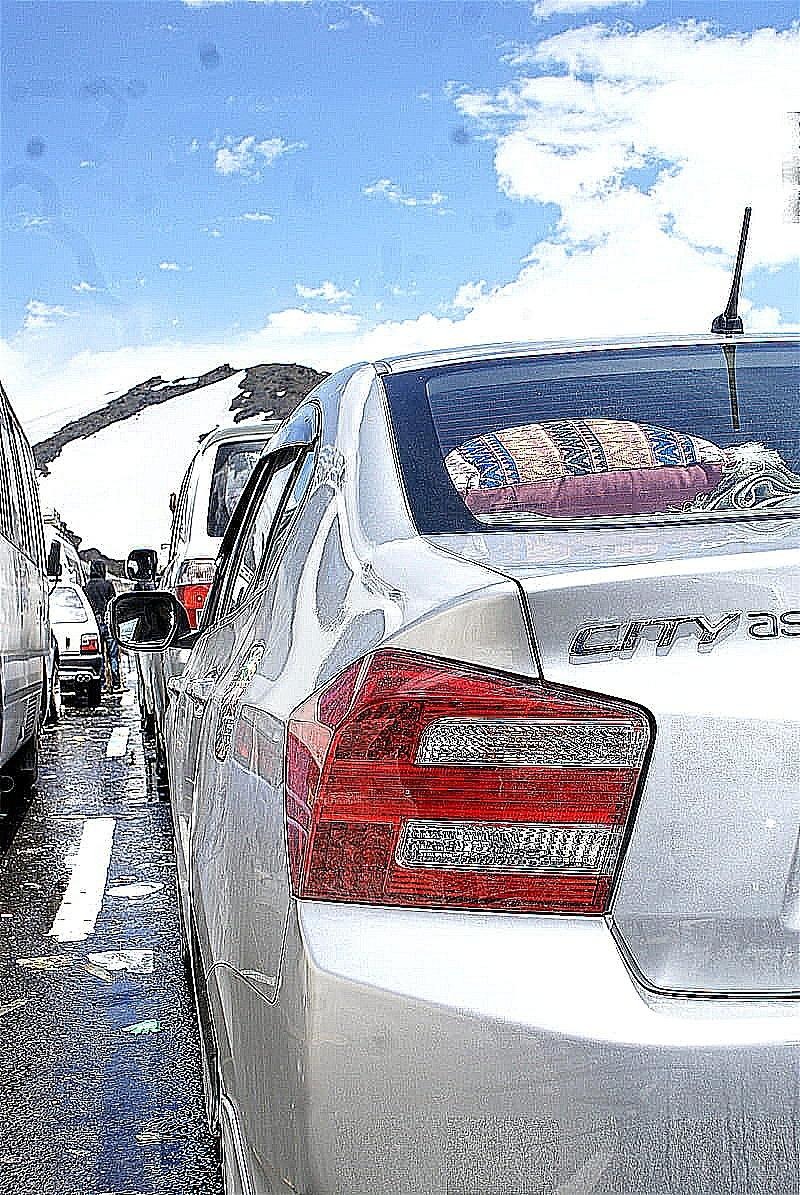Car boot: (416, 526, 800, 1006), (220, 900, 800, 1195)
Rear light - -L-: (282, 654, 654, 923)
Side mirror - -L-: (99, 588, 200, 661)
